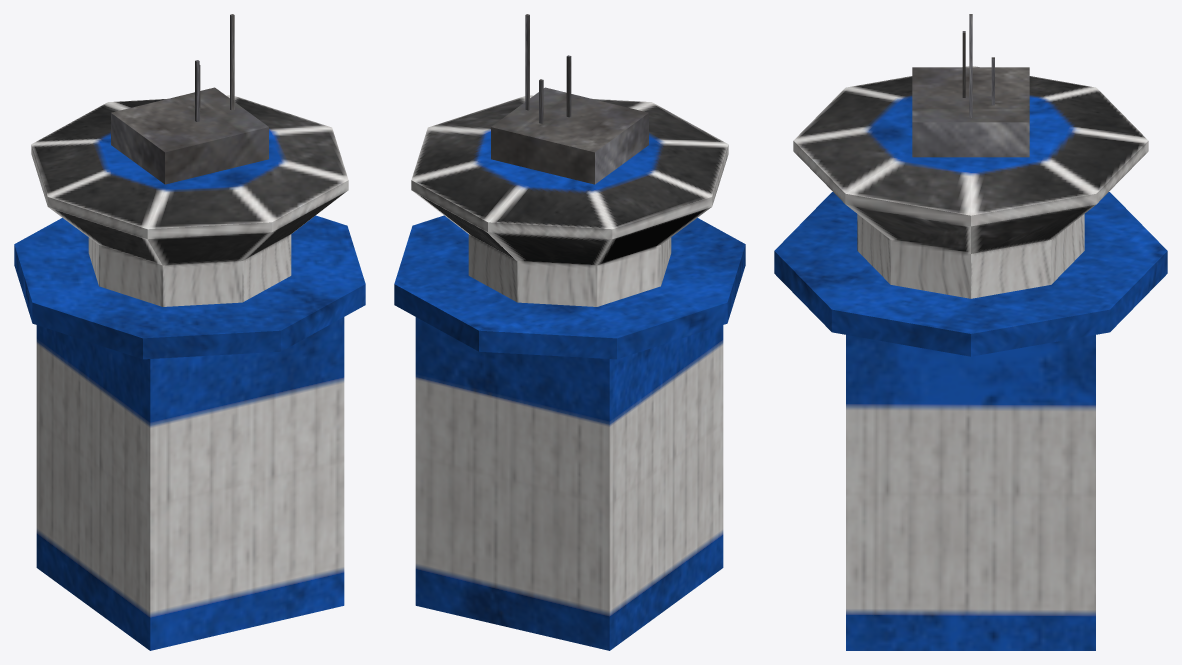
File: AirContolTower.fbx
3 renders of one model, left to right at view 1: azimuth 30°, elevation 25°; view 2: azimuth 150°, elevation 25°; view 3: azimuth 270°, elevation 25°, orthographic. The views are drawn at different scales.
Parts seen in each view (by area): view 1: AirTowerCentre; view 2: AirTowerCentre; view 3: AirTowerCentre.
Boxes of the visible parts, left/top/right/bottom form: AirTowerCentre: left=14, top=14, right=365, bottom=650; AirTowerCentre: left=394, top=14, right=745, bottom=650; AirTowerCentre: left=774, top=14, right=1167, bottom=650.
Bounding box in the file's own units: 6.15 × 10.47 × 6.15.
